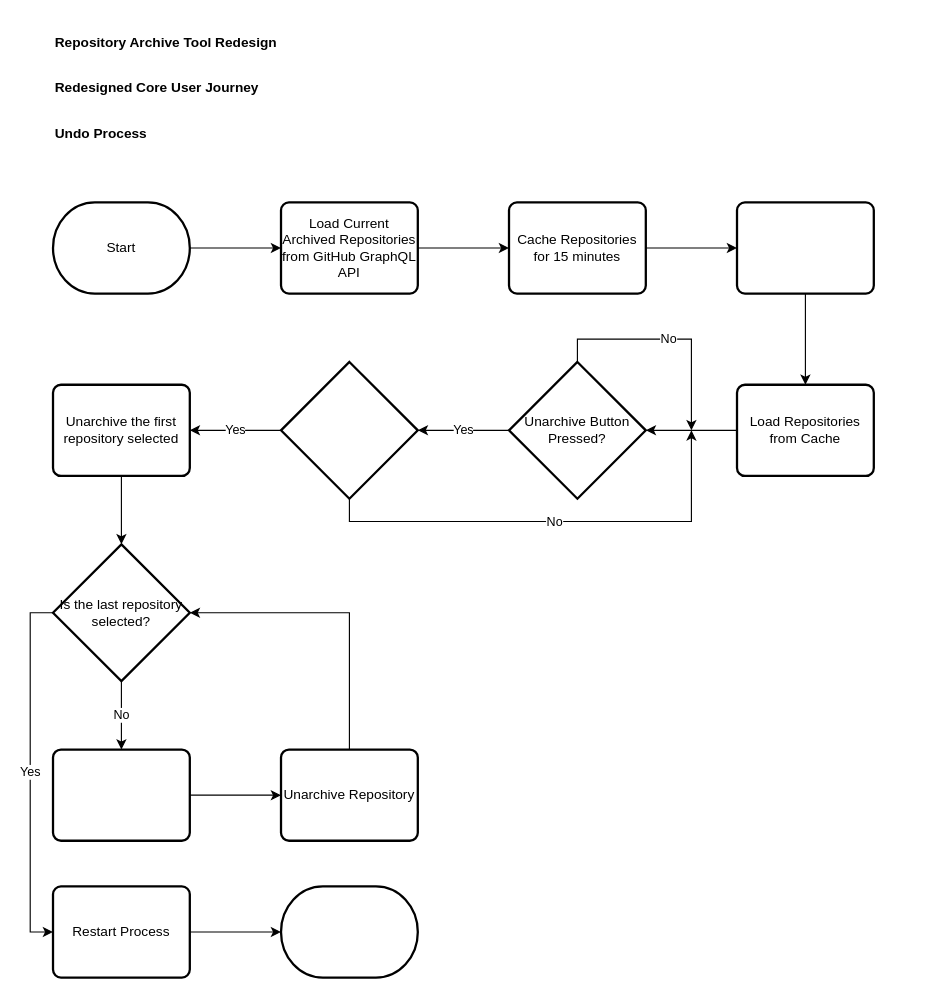
The diagram is 938 pixels wide and 998 high, and some of its shapes have lost their labels. Here are the shapes that lost their labels. From the top down, the box of each, then its label:
(735, 201, 874, 294): Unarchive Repositories Page
(279, 360, 418, 499): Has a repository been selected?
(51, 748, 190, 841): Next Repository
(279, 885, 418, 978): End
